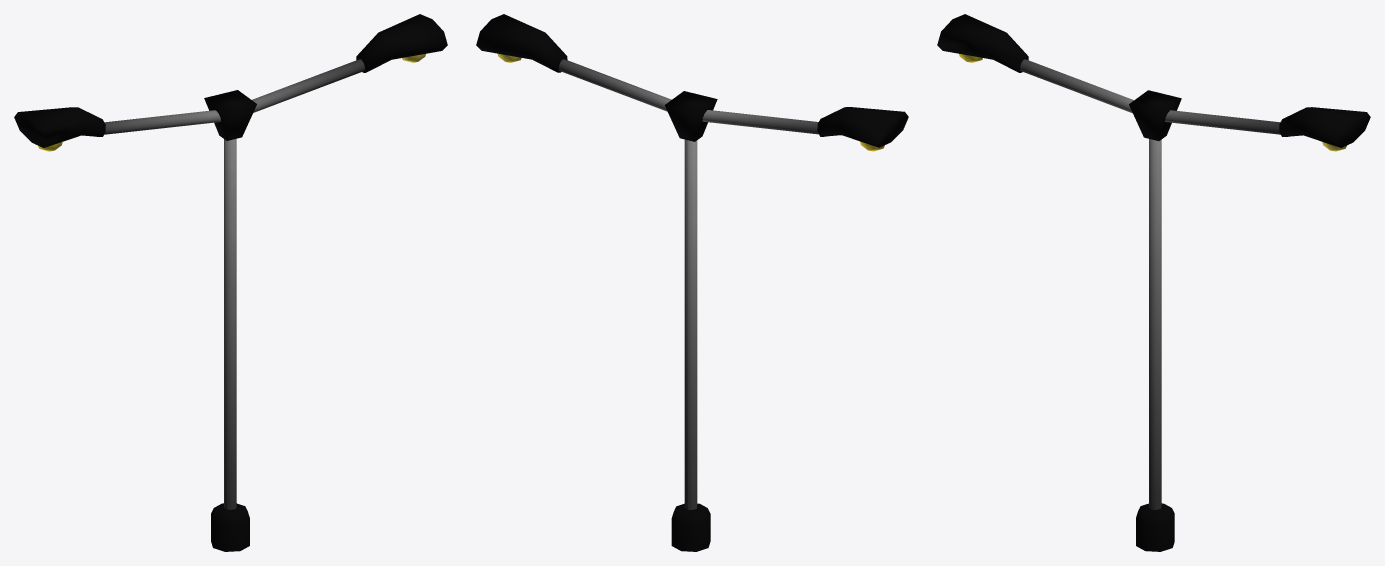
File: Street Lamp_2.fbx
The picture shows the model from 3 angles, left to right: view 1: azimuth 30°, elevation 25°; view 2: azimuth 150°, elevation 25°; view 3: azimuth 330°, elevation 25°; orthographic projection.
Parts seen in each view (by area): view 1: Street Lamp_2; view 2: Street Lamp_2; view 3: Street Lamp_2.
Boxes of the visible parts, bbox=[...] form: Street Lamp_2: bbox=[14, 14, 447, 551]; Street Lamp_2: bbox=[476, 14, 908, 551]; Street Lamp_2: bbox=[937, 14, 1370, 551].
Size of the model in its own units: 508 by 573 by 75.9.
1 material, 1 textured.
